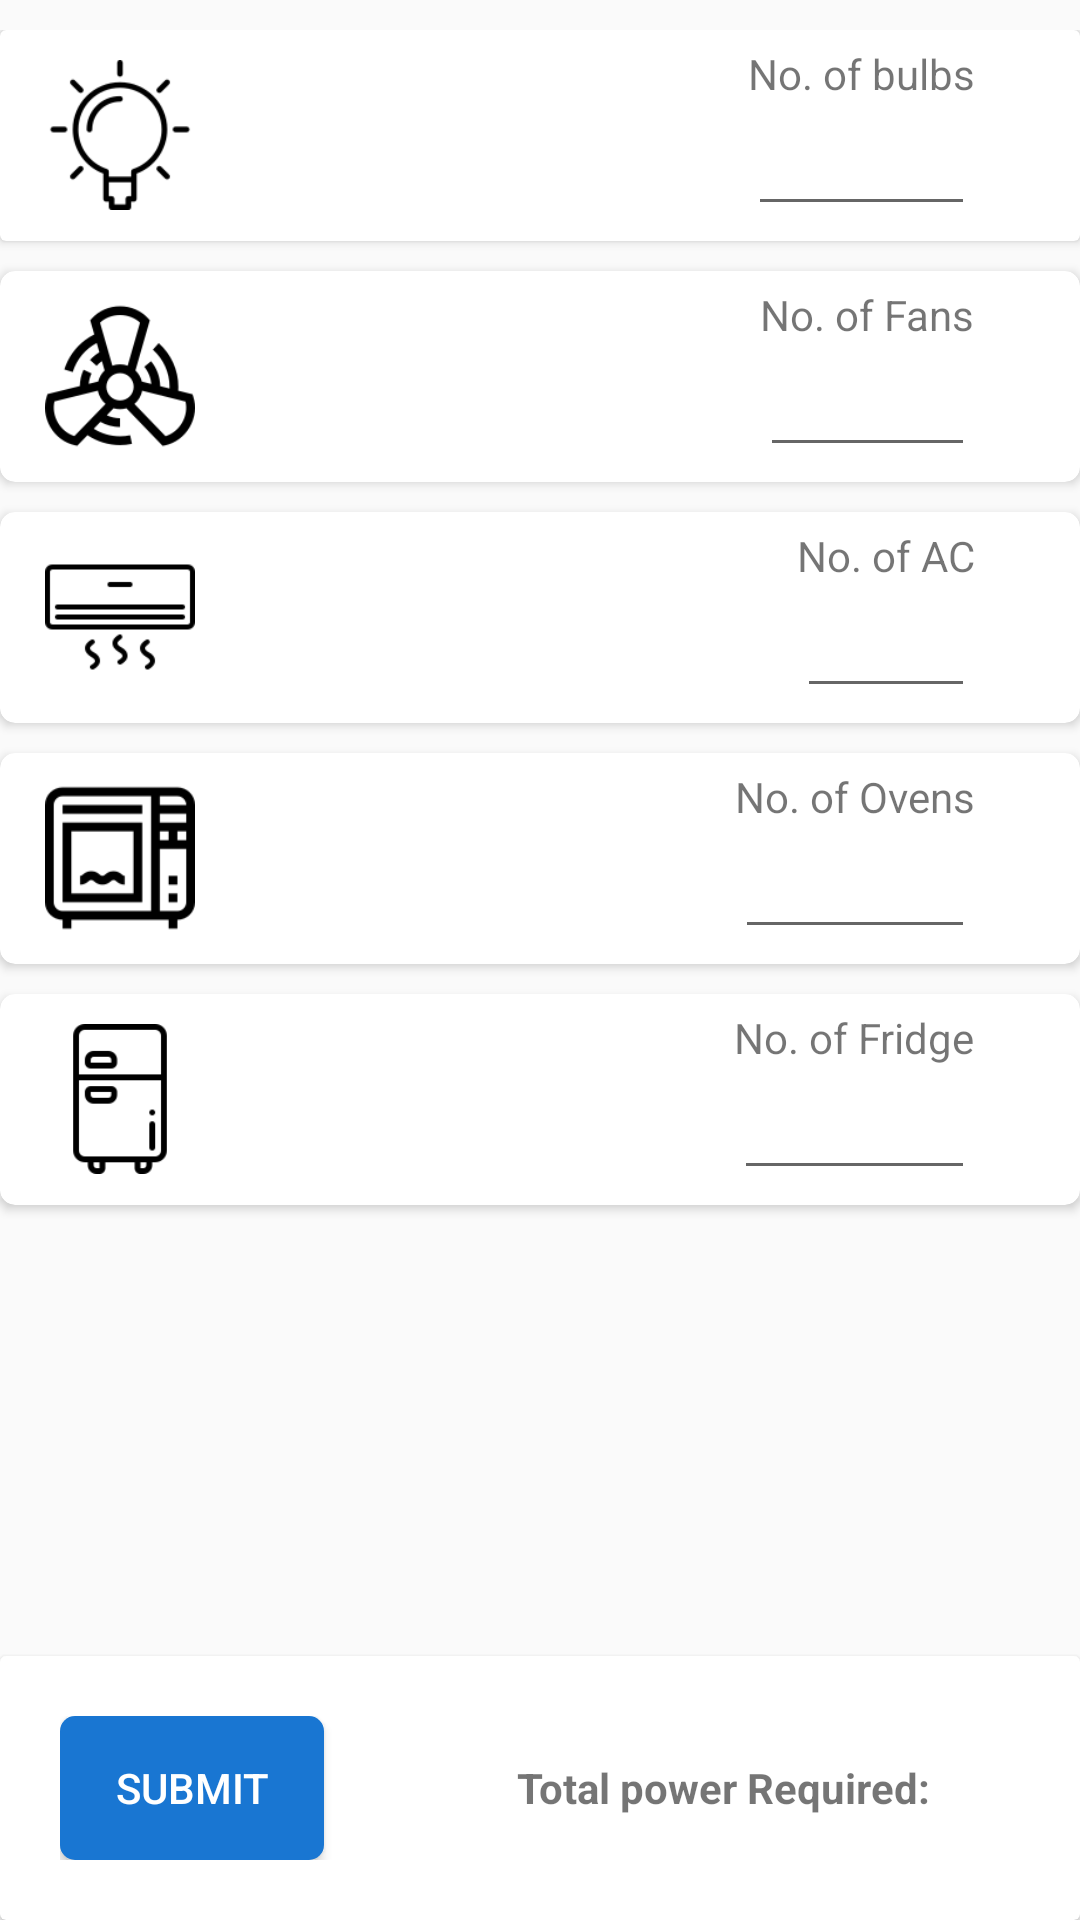

Icons on this 1080*1920 Android screen, each with its box as (x1, y1, x2, y2):
airconditioner: (45, 564, 195, 670)
fan: (45, 305, 195, 447)
fridge: (73, 1024, 167, 1174)
idea: (50, 60, 190, 210)
oven: (45, 786, 195, 930)
